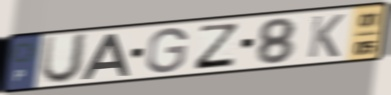8: (253, 16, 298, 66)
A: (79, 32, 132, 81)
G: (144, 26, 190, 75)
K: (305, 13, 346, 60)
U: (38, 32, 91, 86)
Z: (192, 22, 241, 71)
